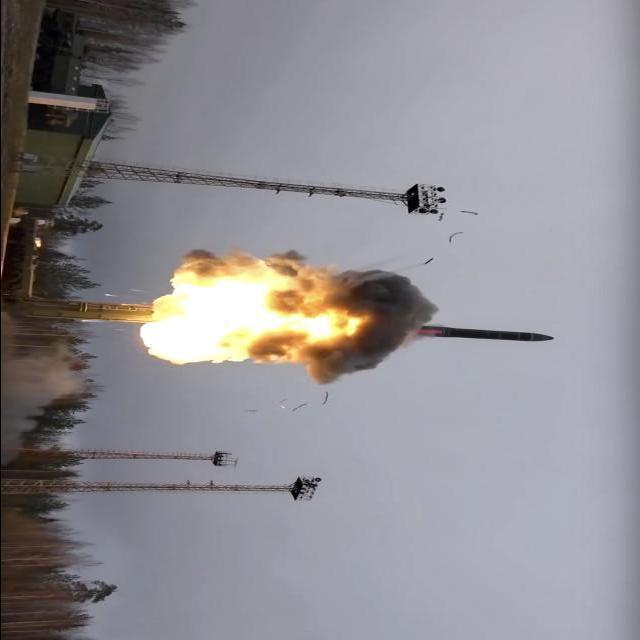missile: (413, 321, 569, 346)
